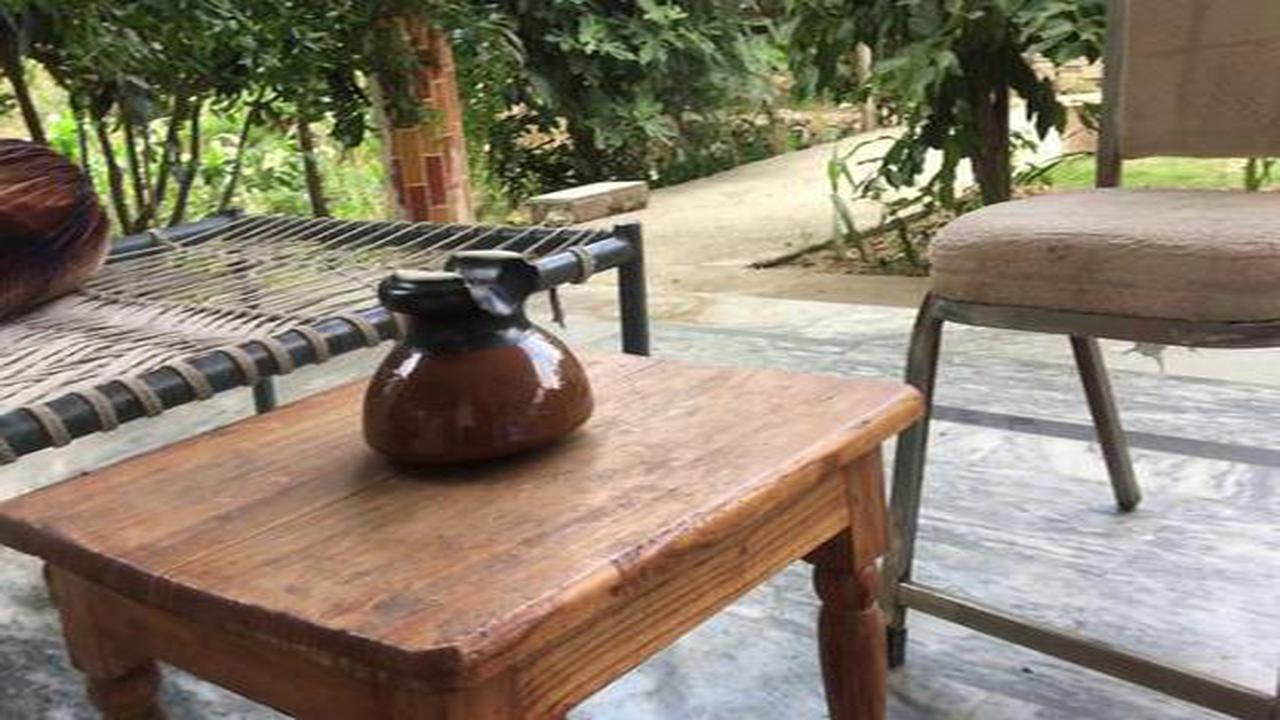insulator_pin: (342, 232, 604, 489)
